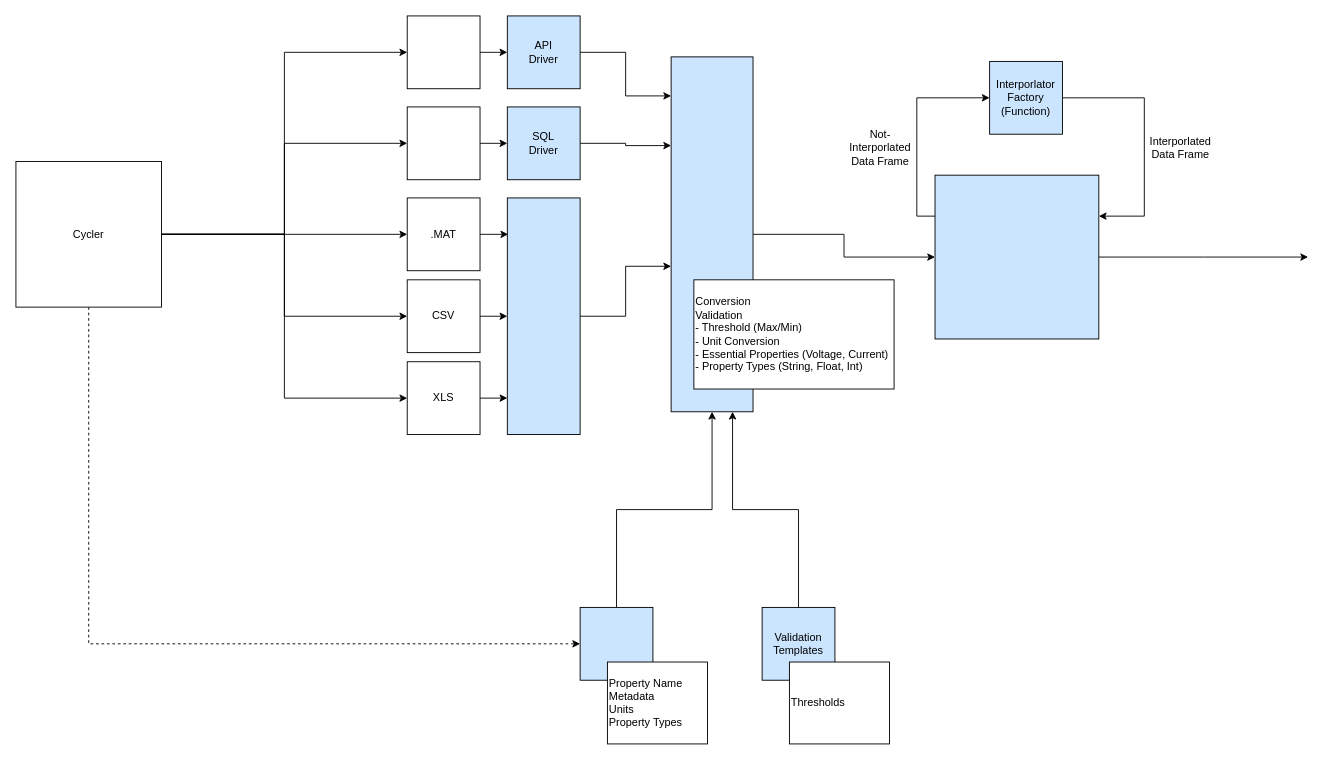
Image size: 1331x760. Some labels were removed from this diagram. Each missing label, with the centre of its shape:
"New Clean Data Frame Object": point 1016,256
API: point 443,52
Conversion Templates: point 616,643
File Driver: point 543,316
Schema Mapping: point 711,234
SQL: point 443,143
